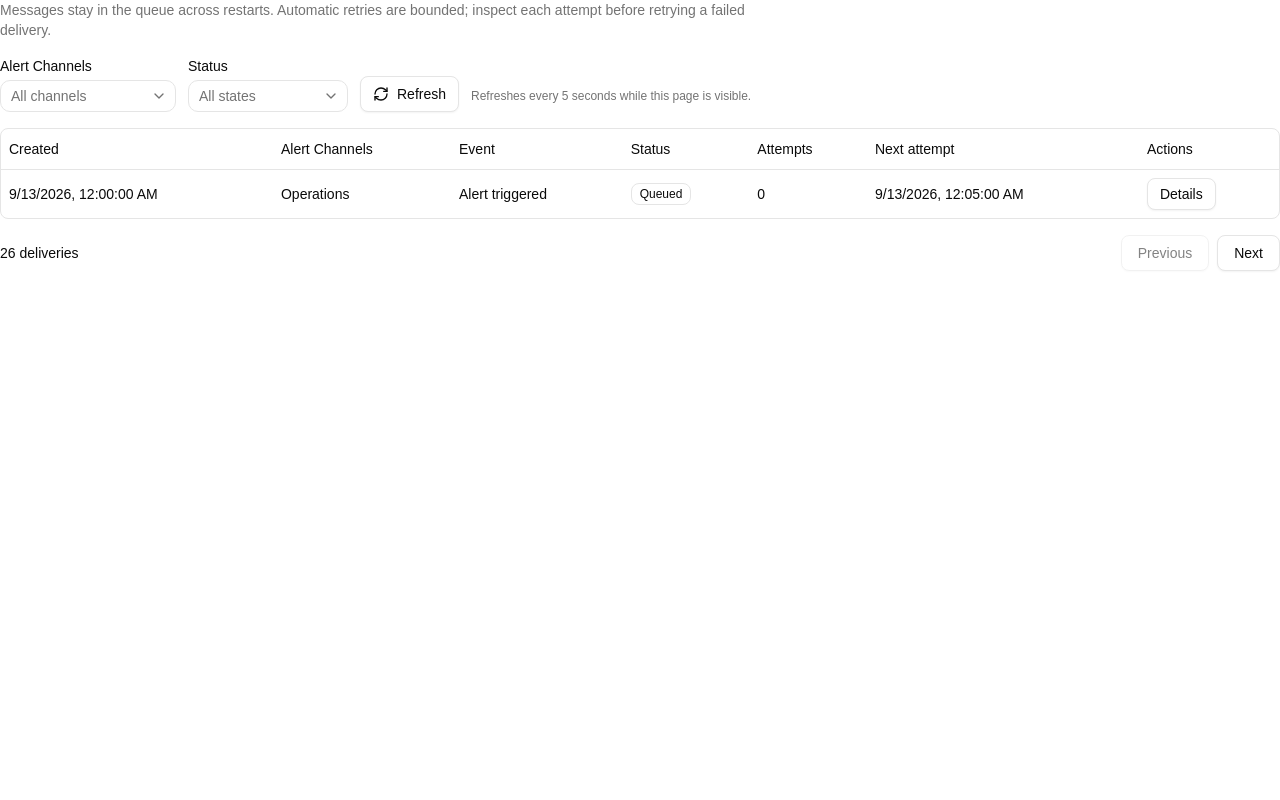
durable notification history › shows attempt evidence and requires an explicit duplicate acknowledgement to retry
Click the button "Details": click(1181, 194) [1147, 178, 1216, 210]
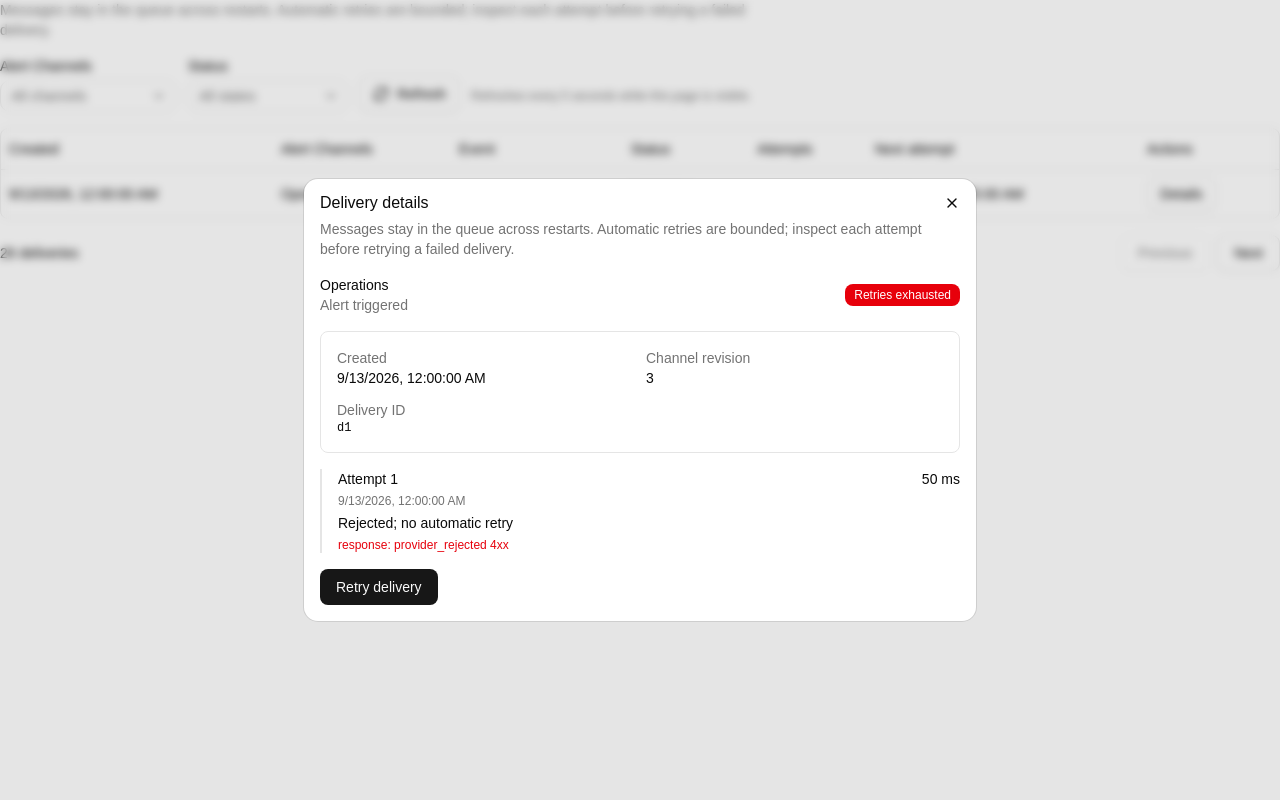
Check: the text "Attempt 1" is shown, box [338, 469, 398, 489]
Check: the text "response: provider_rejected 4xx" is shown, box [338, 538, 509, 552]
Click the button "Retry delivery": click(379, 587) [320, 569, 438, 605]
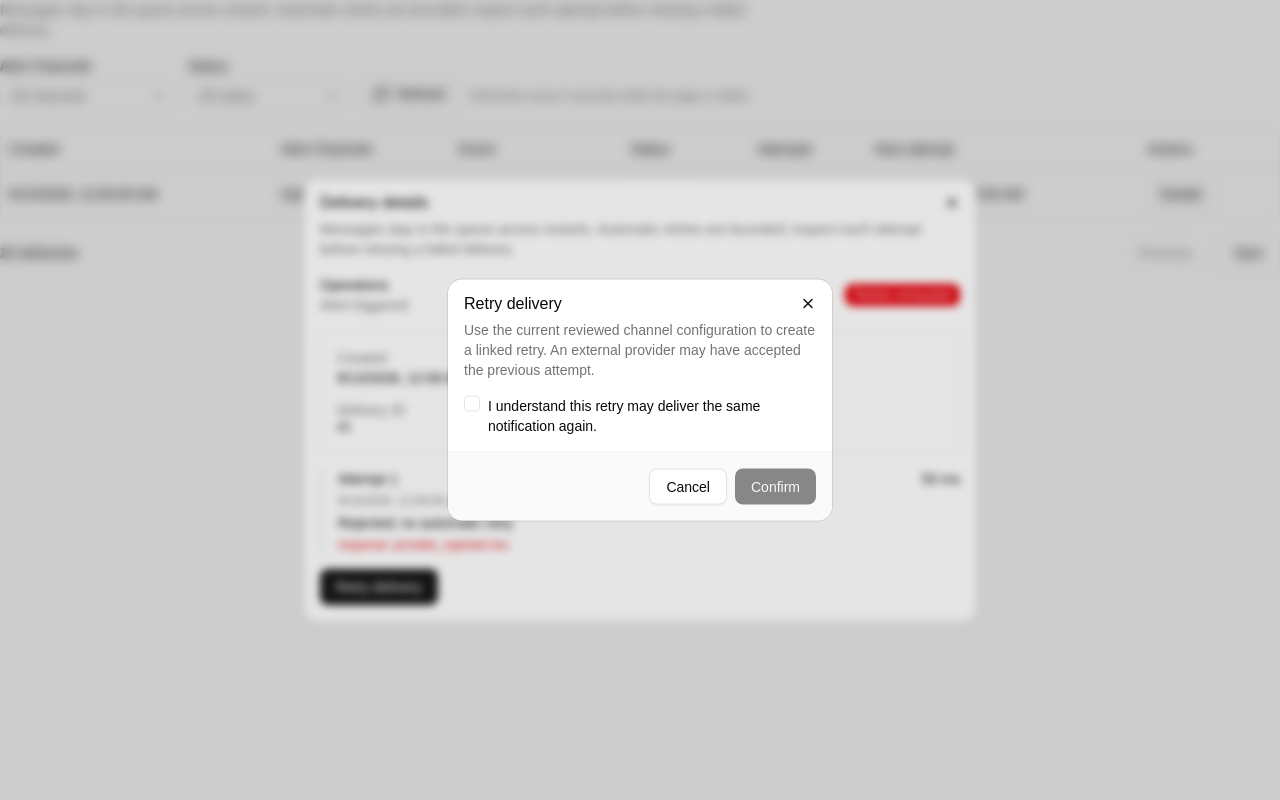
Check: the button "Confirm" is disabled, box [735, 468, 816, 504]
Click the checkbox named "I understand this retry": click(472, 404) [464, 396, 480, 412]
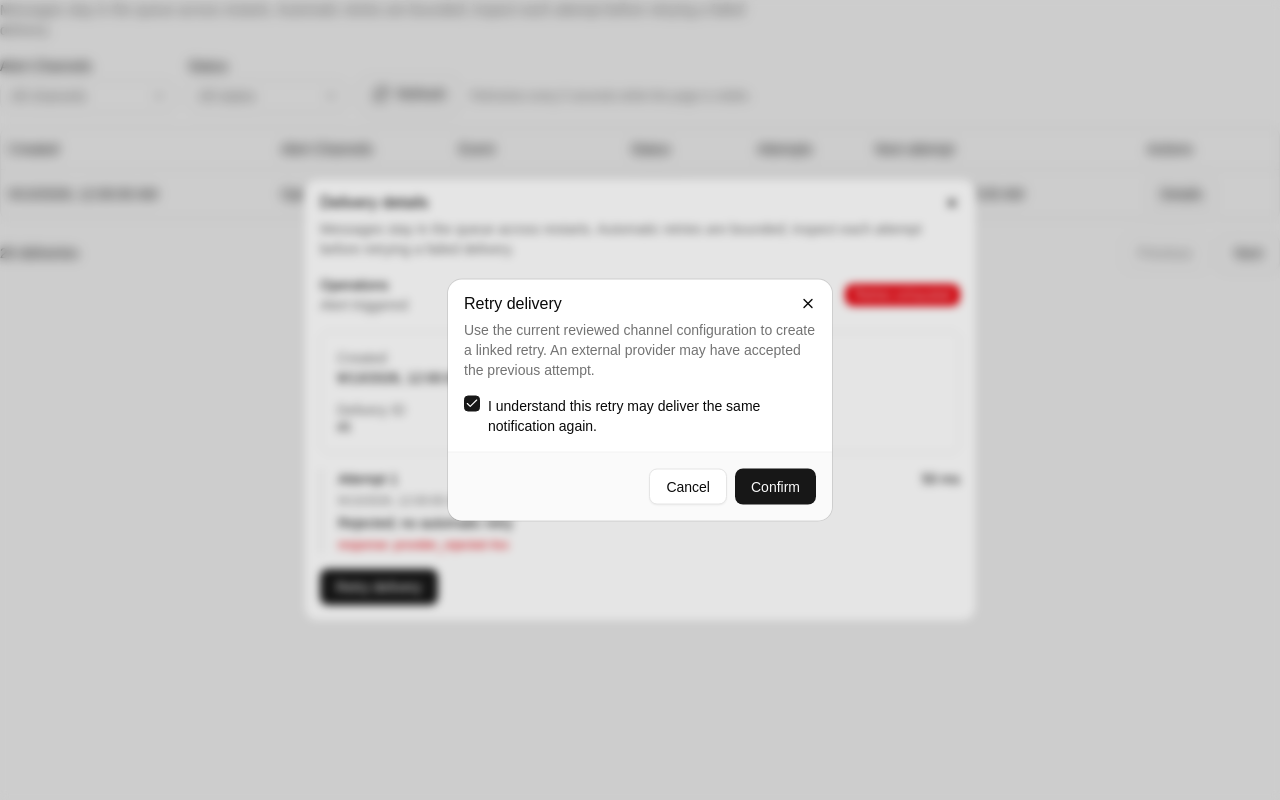
Click the button "Confirm": click(776, 486) [735, 468, 816, 504]
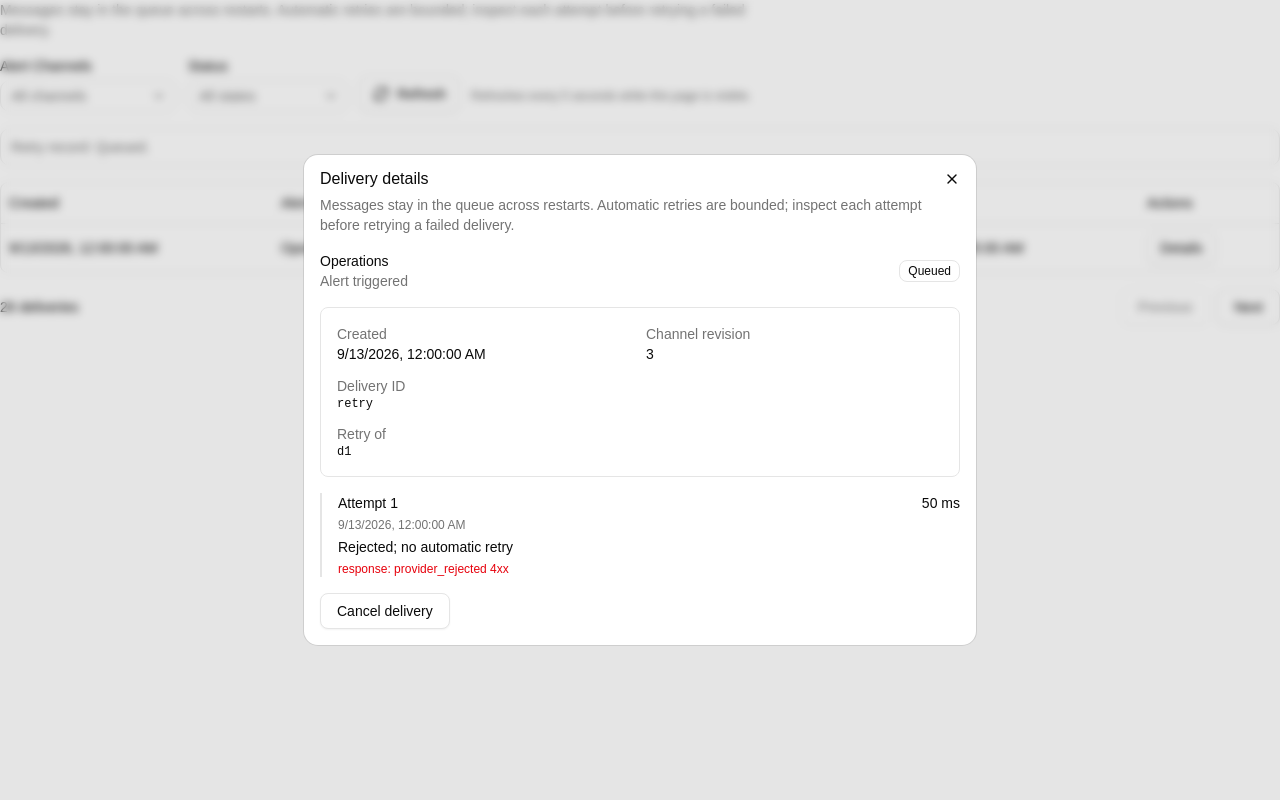
Check: the text "Retry record: Queued." is shown, box [11, 139, 150, 155]
